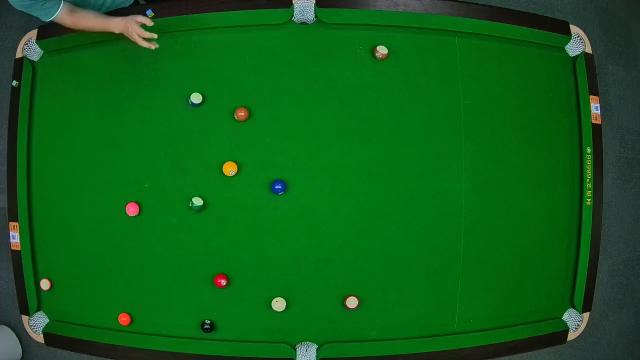bag1: (22, 40, 42, 60)
bag2: (292, 0, 316, 24)
bag3: (566, 34, 586, 54)
bag4: (29, 313, 47, 333)
bag5: (294, 340, 318, 360)
bag6: (563, 309, 583, 331)
ball0: (271, 298, 287, 312)
ball1: (222, 161, 238, 177)
ball10: (188, 93, 204, 108)
ball11: (343, 294, 359, 310)
ball12: (39, 277, 53, 291)
ball14: (190, 196, 204, 212)
ball15: (374, 44, 390, 60)
ball2: (271, 178, 287, 196)
ball3: (213, 273, 229, 289)
ball4: (126, 202, 140, 218)
ball5: (117, 312, 131, 328)
ball7: (234, 108, 250, 122)
ball8: (201, 318, 215, 334)
